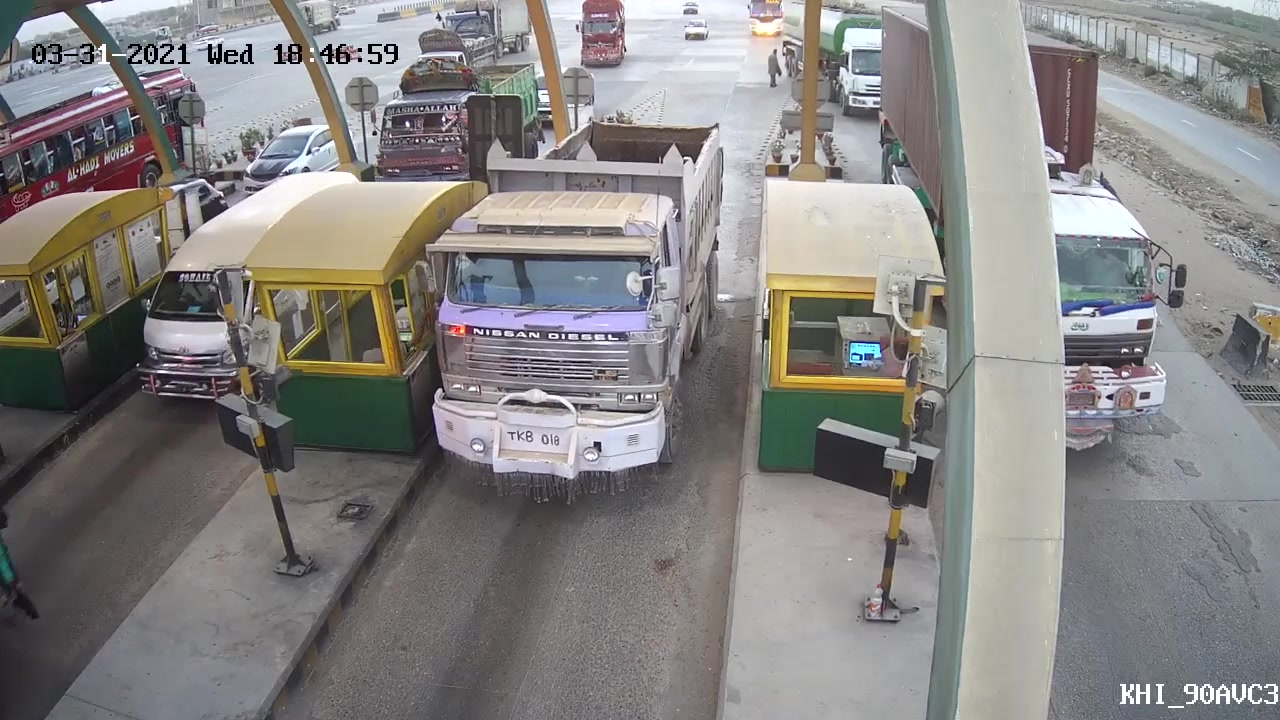F5: (422, 117, 732, 508)
